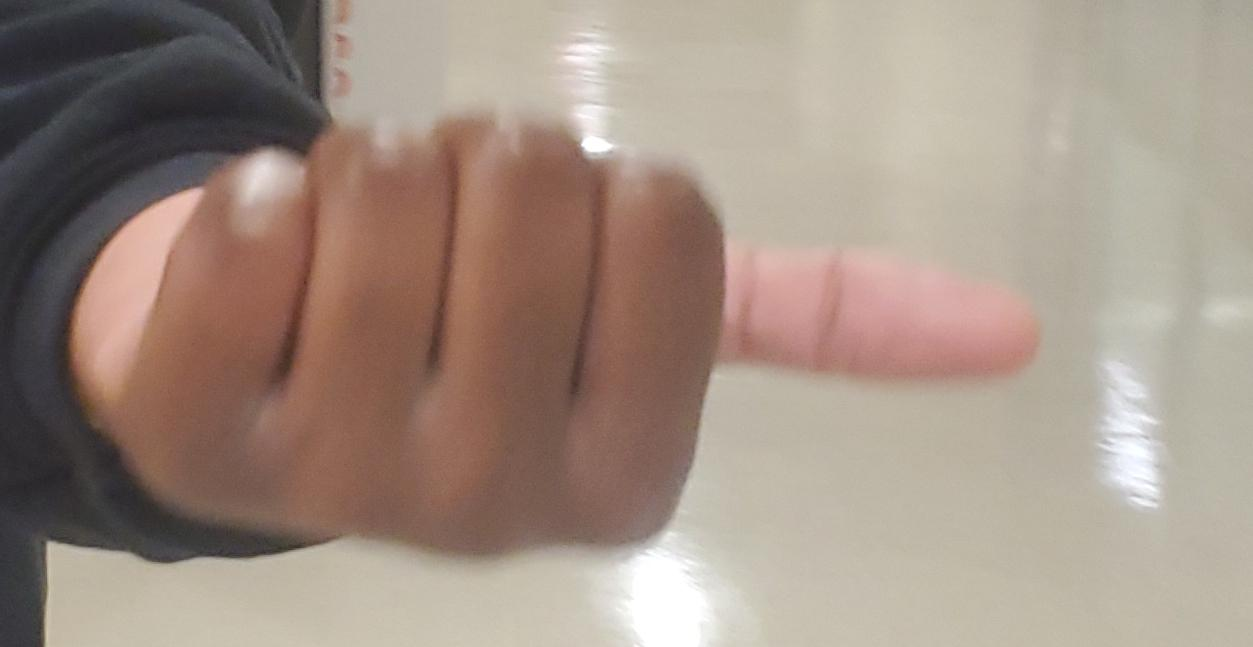left: (1, 0, 1253, 647)
